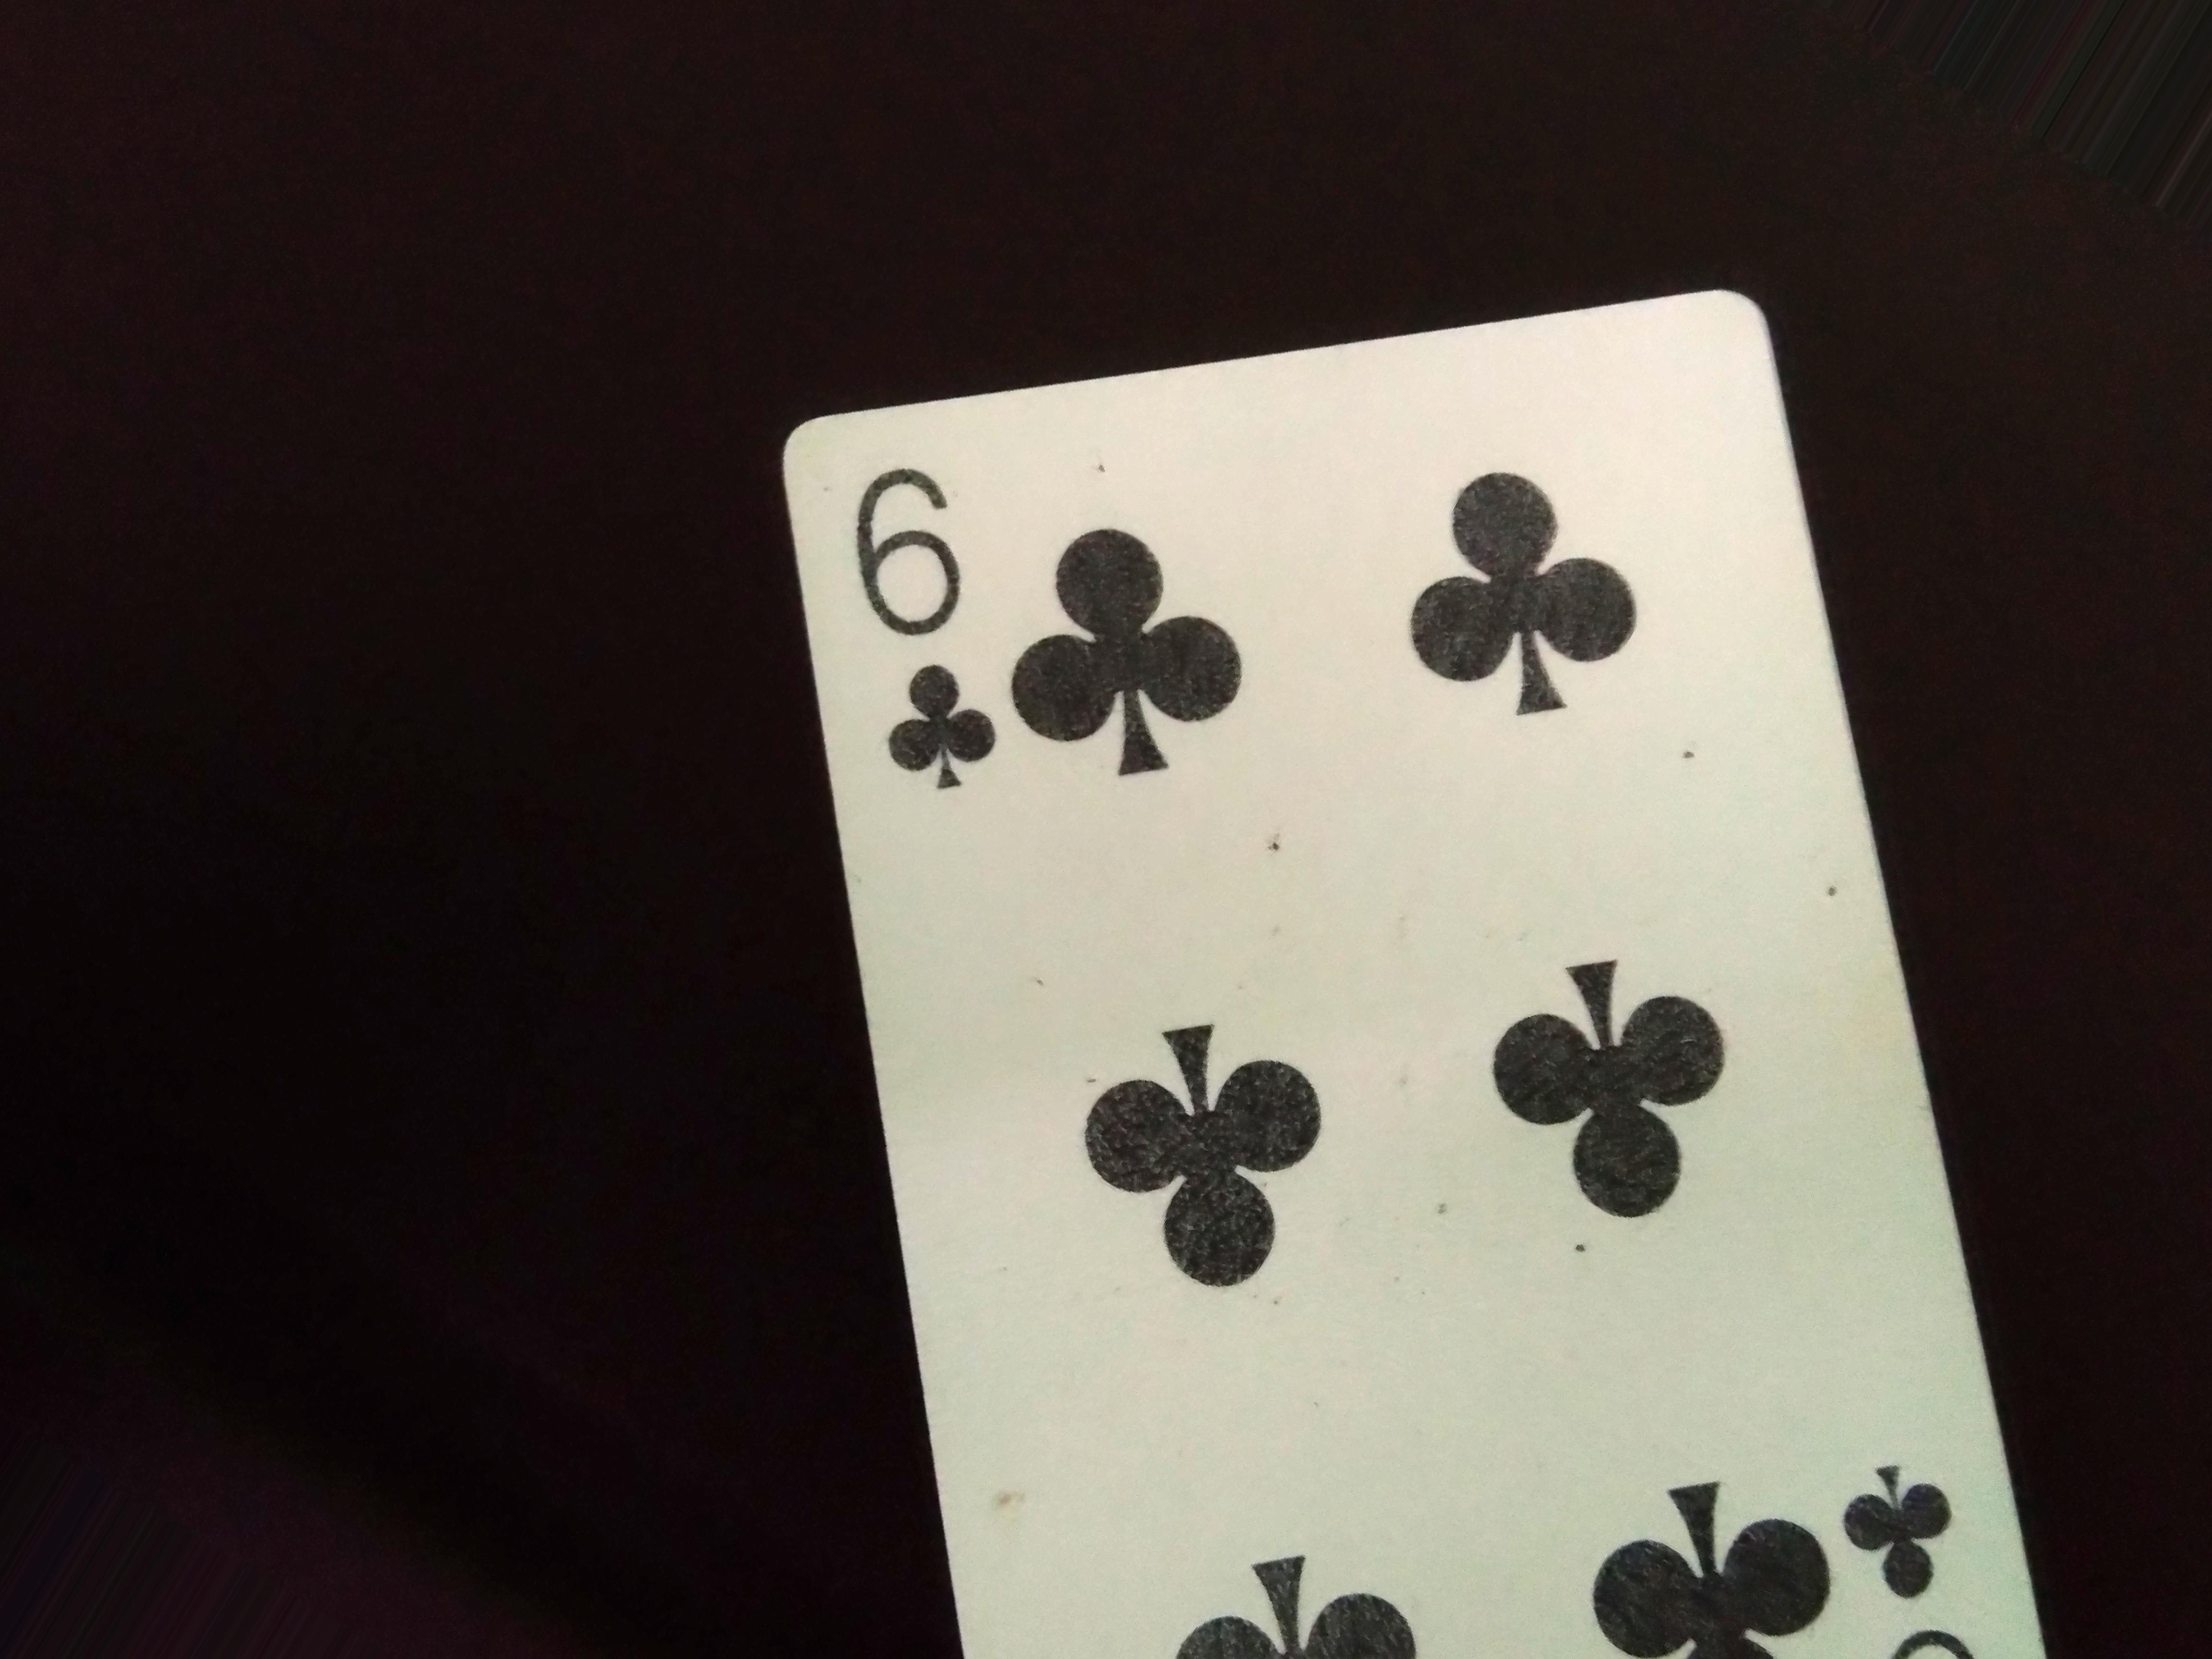6C: (840, 458, 1035, 856)
